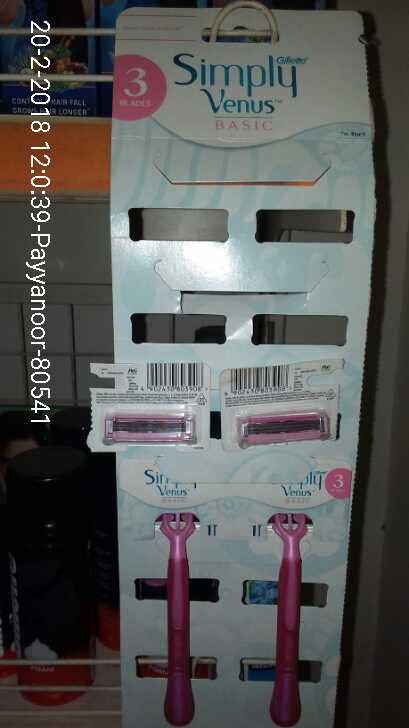reject: (170, 181, 302, 290)
